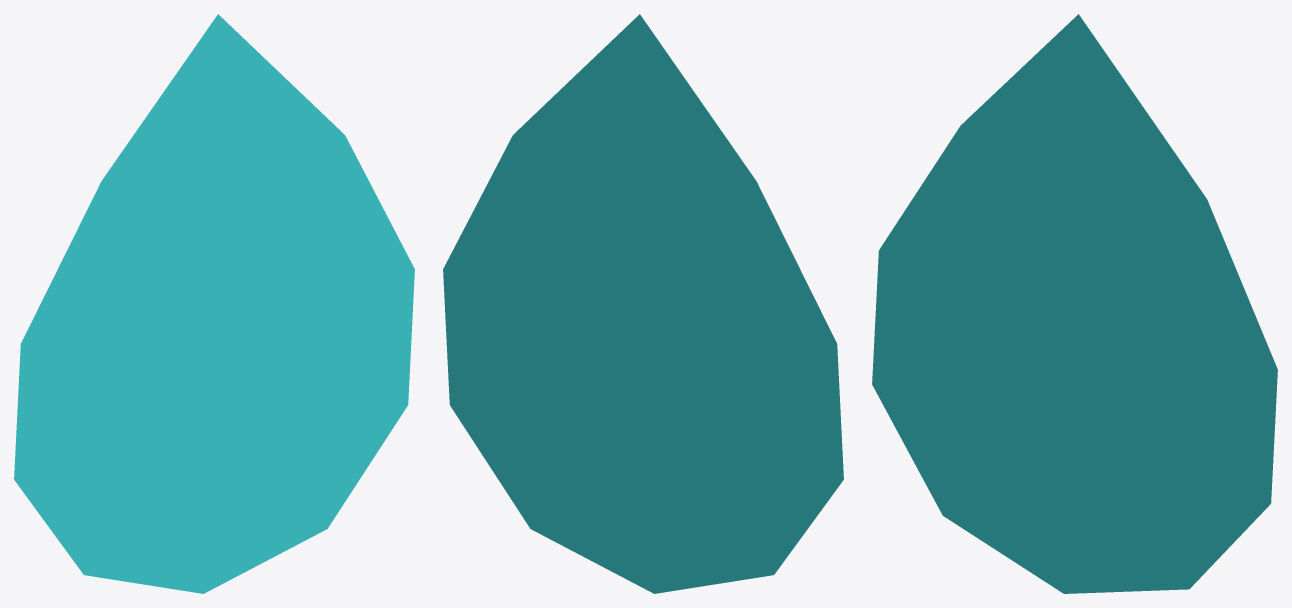
File: WaterSprite.gltf
3 views of the same model, side by side, from view 1: azimuth 30°, elevation 25°; view 2: azimuth 150°, elevation 25°; view 3: azimuth 330°, elevation 25° (orthographic).
Visible parts, largest first — view 1: droplet; view 2: droplet; view 3: droplet.
Boxes of the visible parts, x1,y1,x2,y2 form: droplet: (14, 14, 414, 593); droplet: (443, 14, 843, 593); droplet: (872, 14, 1277, 593).
Size of the model in its own units: 2.03 by 2.79 by 3.87e-17.
1 material, 1 textured.
